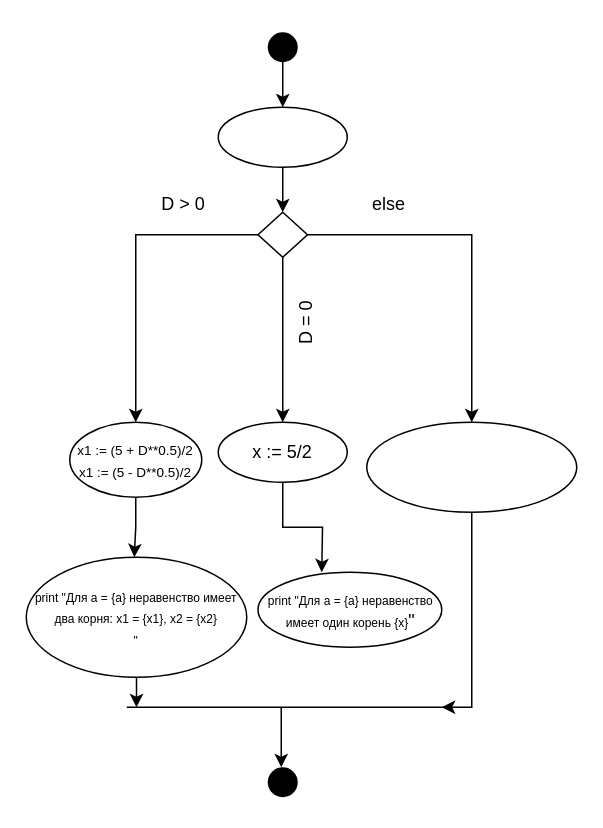
Some shapes in this 603 by 828 pixel diagram are drawn without their labels. The centre of each missing label's shape, as x and y in pixels:
a := 10 D := 9 + 4*a: (282,136)
print "Для а = {a} неравенство не имеет корней": (471,466)
